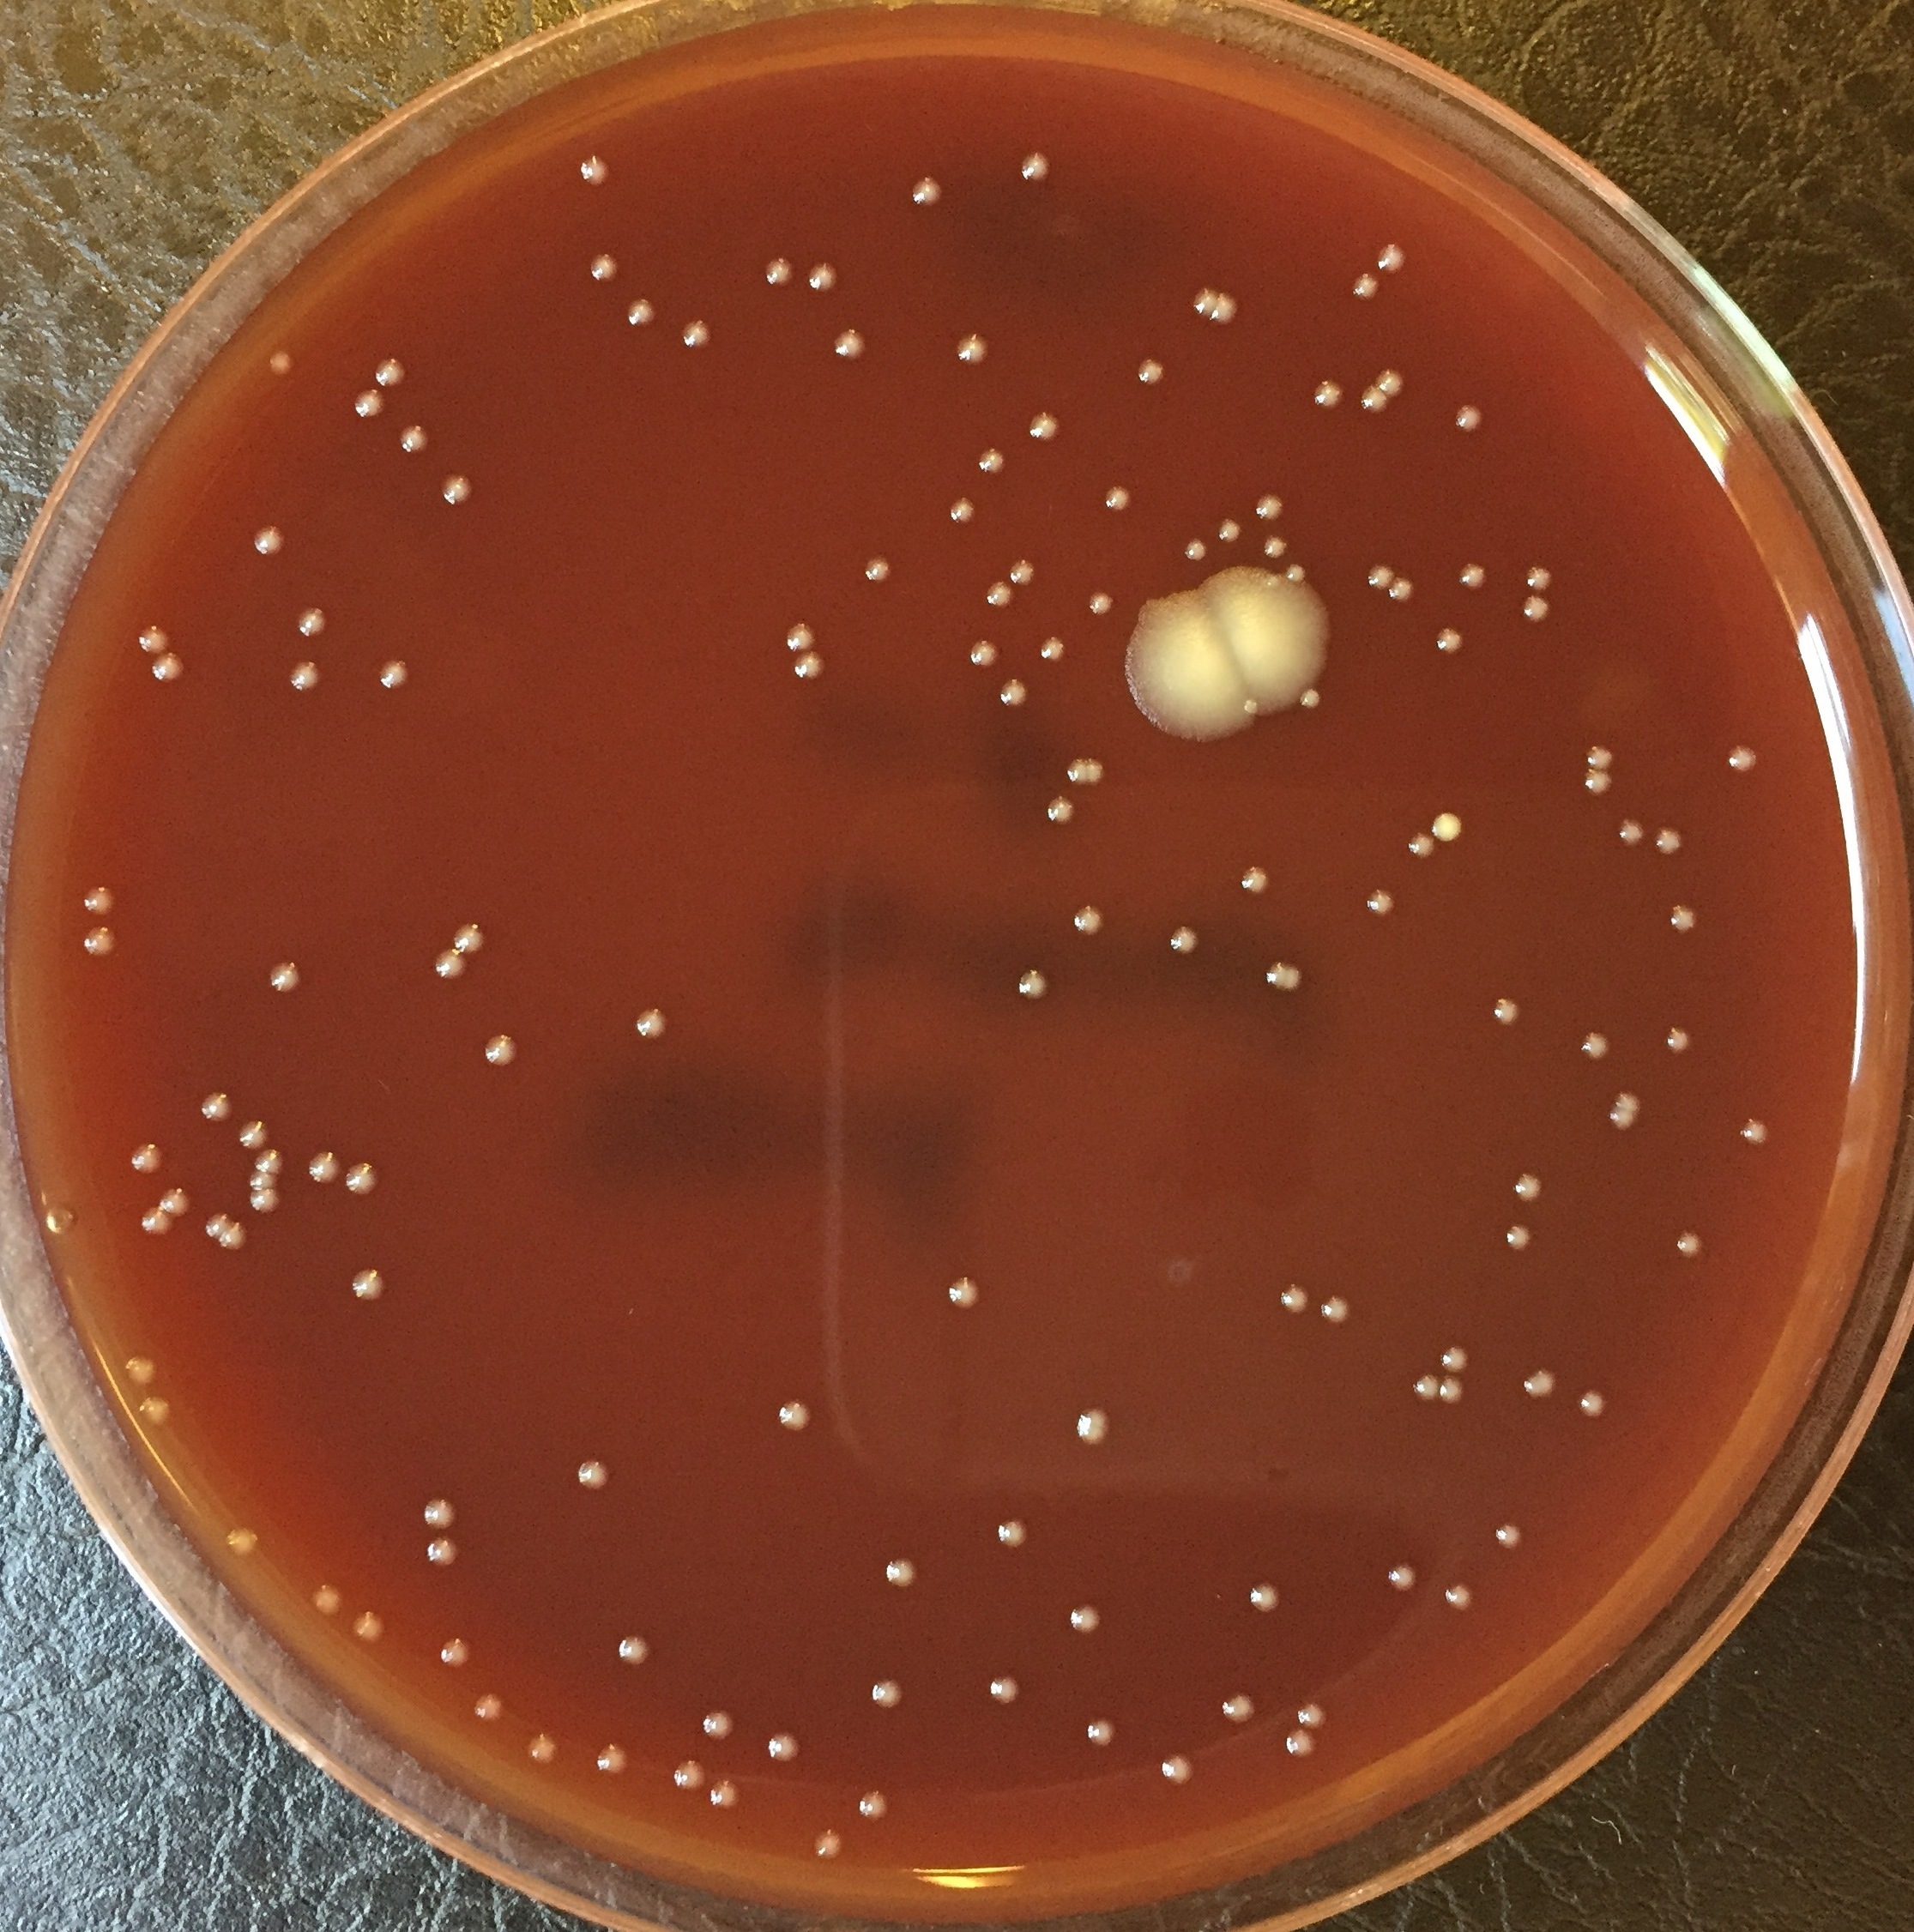sp06: (1013, 966, 1062, 1008), (880, 1555, 925, 1599), (1606, 1090, 1649, 1133), (368, 354, 414, 391), (223, 1522, 263, 1562), (81, 924, 121, 964), (1074, 1406, 1113, 1448), (307, 1580, 345, 1620), (1670, 1227, 1711, 1266), (1358, 884, 1399, 922), (1579, 1027, 1620, 1066), (1658, 1020, 1697, 1061), (436, 472, 478, 508), (945, 1275, 987, 1311), (349, 1266, 387, 1304), (138, 1204, 179, 1241), (1024, 408, 1064, 445), (138, 1394, 177, 1431), (699, 1706, 738, 1743), (1159, 1750, 1195, 1788), (265, 959, 303, 996), (633, 1003, 671, 1040), (776, 1396, 813, 1434), (1262, 961, 1309, 991), (421, 1495, 457, 1532), (351, 1609, 387, 1646), (1667, 899, 1704, 936), (1101, 482, 1138, 519), (1069, 901, 1106, 938), (471, 1690, 507, 1729), (855, 1786, 890, 1825), (1220, 1688, 1255, 1727), (1276, 1280, 1311, 1318), (908, 174, 946, 209), (1018, 151, 1057, 186), (955, 328, 990, 366), (831, 328, 869, 363), (377, 654, 415, 689), (1518, 1367, 1558, 1401), (573, 153, 613, 186), (286, 657, 326, 691), (573, 1457, 613, 1490), (610, 1634, 652, 1666), (128, 1140, 165, 1175), (594, 1739, 631, 1774), (987, 1673, 1024, 1708), (1248, 1578, 1285, 1613), (1283, 1727, 1320, 1762), (1739, 1113, 1774, 1150), (1374, 242, 1409, 279), (975, 444, 1011, 479), (782, 619, 819, 654), (997, 675, 1034, 710), (251, 522, 287, 558), (433, 947, 468, 984), (484, 1031, 521, 1066), (1428, 624, 1467, 657), (1209, 286, 1239, 328), (1451, 403, 1486, 438), (1309, 377, 1344, 412), (452, 920, 487, 955), (158, 1185, 195, 1218), (123, 1353, 159, 1387), (424, 1534, 461, 1567), (526, 1732, 563, 1765), (708, 1778, 745, 1811), (996, 1516, 1032, 1550), (792, 647, 829, 680), (149, 649, 186, 682), (1460, 558, 1492, 596), (308, 1150, 342, 1185), (440, 1634, 473, 1669), (812, 1829, 847, 1862), (1083, 1716, 1118, 1750), (1514, 1169, 1548, 1204), (1492, 994, 1525, 1029), (1237, 863, 1272, 896), (1725, 740, 1758, 775), (1518, 591, 1551, 626), (624, 296, 657, 331), (1067, 1602, 1104, 1634), (1374, 365, 1411, 396), (354, 386, 386, 423), (81, 884, 117, 915), (198, 1089, 231, 1122), (673, 1757, 706, 1790), (1297, 1699, 1330, 1732), (293, 605, 326, 638), (347, 1161, 379, 1196), (768, 1730, 803, 1762), (871, 1676, 903, 1711), (1430, 815, 1465, 847), (1036, 635, 1071, 666), (1045, 792, 1076, 827), (245, 1185, 282, 1215), (1437, 1343, 1474, 1373), (764, 254, 794, 291), (1190, 284, 1218, 323), (238, 1120, 272, 1152), (1385, 1562, 1418, 1594), (1318, 1292, 1350, 1325), (1584, 745, 1618, 777), (1653, 826, 1686, 857), (808, 258, 840, 291), (1492, 1522, 1527, 1552), (1081, 589, 1116, 619), (1255, 487, 1285, 522), (861, 554, 896, 584), (983, 579, 1018, 608), (396, 423, 426, 458), (1364, 563, 1395, 594), (1357, 384, 1388, 416), (1006, 558, 1038, 589), (587, 249, 619, 281), (251, 1143, 284, 1173), (219, 1218, 252, 1248), (1443, 1581, 1476, 1611), (1504, 1220, 1534, 1254), (1616, 815, 1646, 849), (1136, 358, 1169, 387), (945, 496, 978, 526), (135, 624, 168, 654), (247, 1166, 282, 1194), (1439, 1371, 1467, 1406), (1167, 924, 1195, 959), (1583, 770, 1613, 801), (682, 319, 712, 351), (203, 1208, 231, 1241), (1216, 514, 1246, 543), (1351, 272, 1381, 302), (966, 640, 996, 670), (1411, 1371, 1439, 1403), (1262, 529, 1290, 561), (1062, 756, 1090, 787), (1183, 535, 1213, 563), (1297, 684, 1323, 714), (1406, 833, 1435, 859), (1523, 565, 1549, 593), (1078, 756, 1104, 784), (1388, 579, 1418, 603), (1579, 1387, 1606, 1413), (266, 351, 294, 375), (1236, 700, 1262, 724), (1285, 565, 1309, 584)
